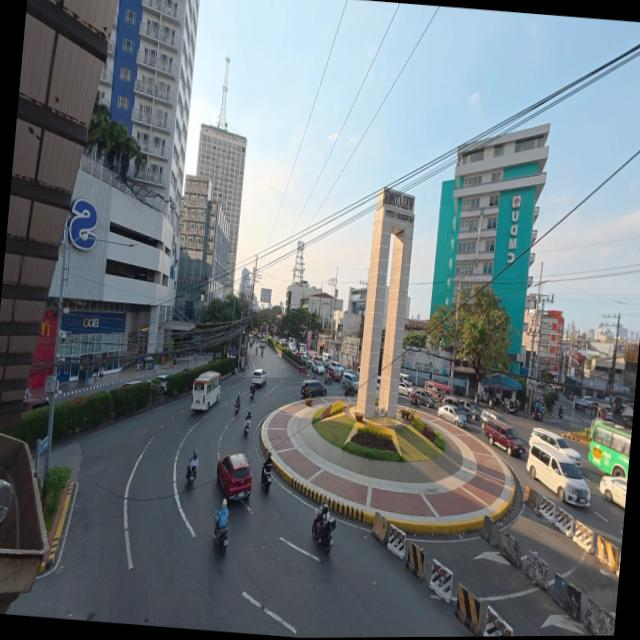Jeepneys: (424, 381, 452, 404)
bus: (588, 420, 631, 477), (190, 371, 220, 410)
car: (528, 428, 581, 467), (216, 453, 251, 499), (483, 419, 525, 456), (599, 475, 626, 508), (442, 396, 471, 420), (437, 406, 466, 427), (478, 410, 506, 428), (300, 380, 325, 398), (459, 400, 480, 419), (340, 371, 358, 393), (414, 389, 434, 408), (22, 397, 47, 411), (150, 375, 167, 392), (594, 404, 611, 421), (251, 369, 266, 386), (326, 365, 341, 382), (397, 382, 411, 397), (309, 360, 323, 374), (398, 373, 411, 386), (341, 369, 357, 379), (329, 361, 343, 372), (120, 380, 141, 387), (582, 397, 593, 405), (536, 381, 546, 389), (259, 340, 265, 349), (273, 337, 279, 342)
motorcycle: (311, 508, 335, 553), (214, 525, 227, 553), (261, 467, 271, 492), (504, 402, 516, 415), (188, 468, 195, 487), (243, 417, 249, 436), (409, 396, 419, 406), (532, 411, 542, 421), (234, 400, 240, 414), (323, 375, 331, 385), (474, 393, 479, 405), (249, 388, 254, 399), (558, 409, 562, 420), (260, 349, 262, 357)
vans: (526, 444, 590, 506), (398, 374, 411, 387)
